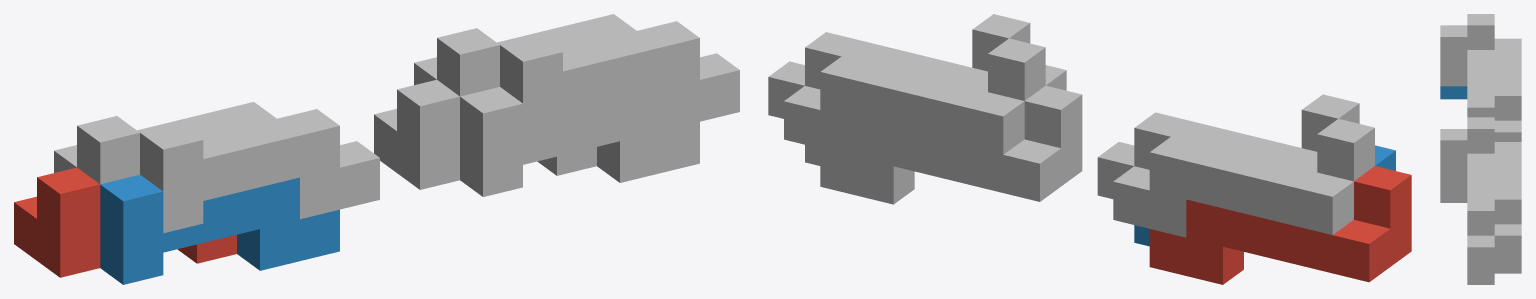
Rendered from tiling.obj.
3 renders of one model, left to right at view 1: azimuth 30°, elevation 25°; view 2: azimuth 150°, elevation 25°; view 3: azimuth 270°, elevation 25°, orthographic. The views are drawn at different scales.
Parts seen in each view (by area): view 1: copy_1_domain_4, copy_1_domain_8, copy_1_domain_2, copy_1_domain_6, copy_1_domain_1, copy_1_domain_5, copy_1_domain_7, copy_1_domain_3; view 2: copy_1_domain_3, copy_1_domain_7, copy_1_domain_5, copy_1_domain_1, copy_1_domain_4, copy_1_domain_8, copy_1_domain_6, copy_1_domain_2; view 3: copy_1_domain_8, copy_1_domain_7, copy_1_domain_3, copy_1_domain_4, copy_1_domain_6, copy_1_domain_5, copy_1_domain_2.
Part boxes in pixels (x1,y1,x2,y2): copy_1_domain_4: (140,109,379,233); copy_1_domain_8: (500,21,739,145); copy_1_domain_2: (100,174,339,284); copy_1_domain_6: (460,87,699,196); copy_1_domain_1: (14,167,236,277); copy_1_domain_5: (374,79,596,189); copy_1_domain_7: (414,14,636,96); copy_1_domain_3: (54,102,276,184); copy_1_domain_3: (1113,119,1374,237); copy_1_domain_7: (784,38,1045,157); copy_1_domain_5: (820,85,1082,204); copy_1_domain_1: (1149,166,1411,284); copy_1_domain_4: (1097,94,1359,198); copy_1_domain_8: (768,14,1030,118); copy_1_domain_6: (805,65,1066,165); copy_1_domain_2: (1134,145,1395,246); copy_1_domain_8: (1440,129,1494,271); copy_1_domain_7: (1467,117,1521,260); copy_1_domain_3: (1467,14,1521,141); copy_1_domain_4: (1440,25,1494,117); copy_1_domain_6: (1440,189,1494,284); copy_1_domain_5: (1494,260,1521,273); copy_1_domain_2: (1440,86,1467,99).
Size of the model in its own units: 17 by 4 by 3.
